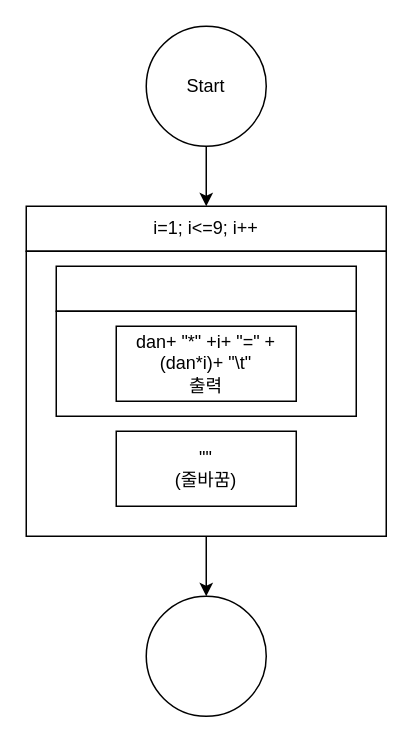
This 413x743 diagram has some shape labels left out. The shapes that lost their labels are listed below. From the top down, each one's box as (x1, y1, x2, y2) in pixels, then its label:
(55, 265, 356, 311): dan=2; dan<=9; dan++
(145, 595, 266, 716): End
